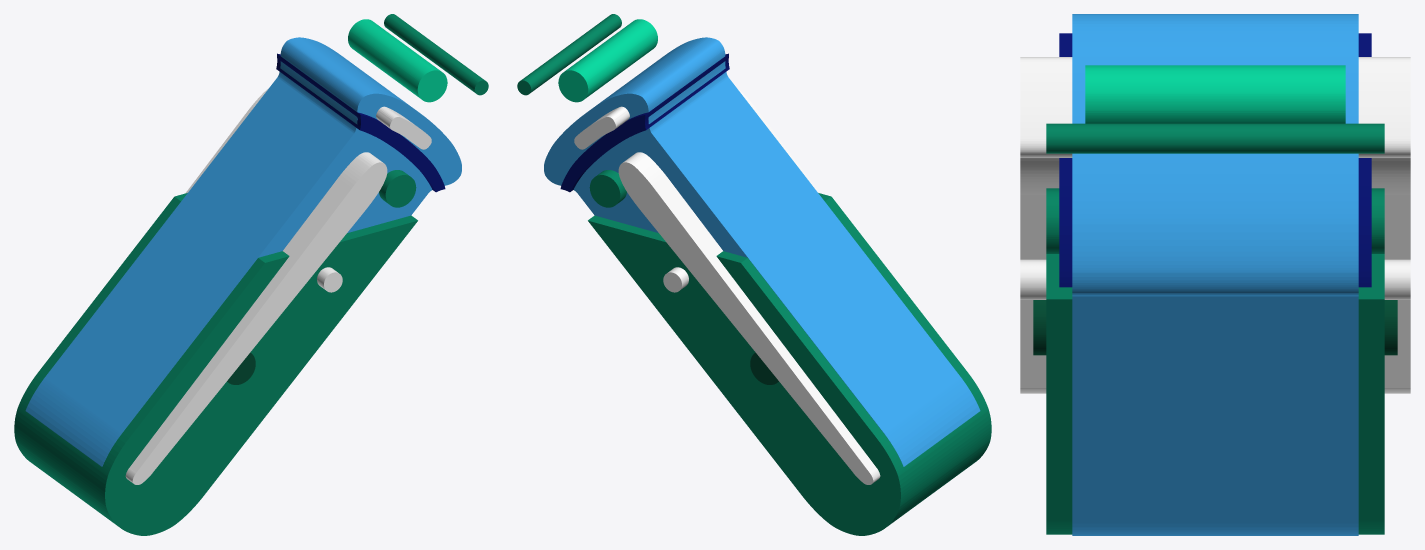
3 views of the same model, side by side, from view 1: azimuth 30°, elevation 25°; view 2: azimuth 150°, elevation 25°; view 3: azimuth 270°, elevation 25° (orthographic). The views are drawn at different scales.
Visible parts, largest first — view 1: U+1F9EA_layer01_obj00, U+1F9EA_layer03_obj00, U+1F9EA_layer05_obj01, U+1F9EA_layer00_obj00, U+1F9EA_layer02_obj00, U+1F9EA_layer03_obj02, U+1F9EA_layer03_obj01, U+1F9EA_layer05_obj02; view 2: U+1F9EA_layer01_obj00, U+1F9EA_layer03_obj00, U+1F9EA_layer05_obj01, U+1F9EA_layer00_obj00, U+1F9EA_layer02_obj00, U+1F9EA_layer03_obj02, U+1F9EA_layer03_obj01, U+1F9EA_layer05_obj02; view 3: U+1F9EA_layer01_obj00, U+1F9EA_layer00_obj00, U+1F9EA_layer03_obj00, U+1F9EA_layer03_obj02, U+1F9EA_layer05_obj01, U+1F9EA_layer05_obj02, U+1F9EA_layer02_obj00, U+1F9EA_layer05_obj00, U+1F9EA_layer03_obj01, U+1F9EA_layer04_obj00.
Part boxes in pixels (x1,y1,x2,y2): U+1F9EA_layer01_obj00: (25, 37, 461, 466); U+1F9EA_layer03_obj00: (14, 193, 417, 535); U+1F9EA_layer05_obj01: (125, 88, 387, 484); U+1F9EA_layer00_obj00: (348, 19, 447, 102); U+1F9EA_layer02_obj00: (276, 53, 445, 192); U+1F9EA_layer03_obj02: (384, 14, 488, 95); U+1F9EA_layer03_obj01: (379, 170, 416, 207); U+1F9EA_layer05_obj02: (376, 106, 431, 149); U+1F9EA_layer01_obj00: (544, 37, 980, 466); U+1F9EA_layer03_obj00: (588, 193, 991, 535); U+1F9EA_layer05_obj01: (618, 88, 880, 484); U+1F9EA_layer00_obj00: (558, 19, 657, 102); U+1F9EA_layer02_obj00: (560, 53, 729, 192); U+1F9EA_layer03_obj02: (517, 14, 621, 95); U+1F9EA_layer03_obj01: (589, 170, 626, 207); U+1F9EA_layer05_obj02: (574, 106, 629, 149); U+1F9EA_layer01_obj00: (1072, 14, 1358, 535); U+1F9EA_layer00_obj00: (1085, 65, 1345, 123); U+1F9EA_layer03_obj00: (1046, 254, 1384, 534); U+1F9EA_layer03_obj02: (1046, 123, 1384, 153); U+1F9EA_layer05_obj01: (1020, 158, 1410, 393); U+1F9EA_layer05_obj02: (1020, 57, 1410, 157); U+1F9EA_layer02_obj00: (1059, 33, 1371, 287); U+1F9EA_layer05_obj00: (1020, 259, 1410, 299); U+1F9EA_layer03_obj01: (1046, 188, 1384, 253); U+1F9EA_layer04_obj00: (1033, 300, 1397, 355).
Bounding box in the file's own units: 0.3173 × 0.3049 × 0.15.
